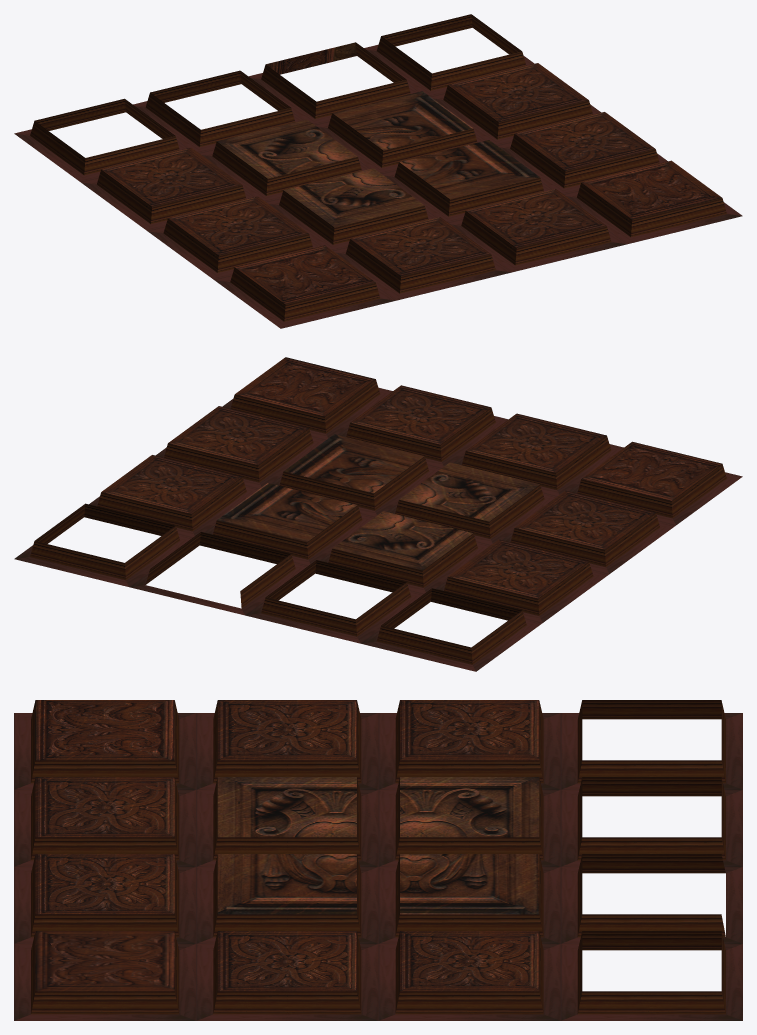
Rendered from WoodPaneledCeiling.fbx.
The picture shows the model from 3 angles, top to bottom: view 1: azimuth 30°, elevation 25°; view 2: azimuth 150°, elevation 25°; view 3: azimuth 270°, elevation 25°; orthographic projection. The views are drawn at different scales.
Parts seen in each view (by area): view 1: Ceiling; view 2: Ceiling; view 3: Ceiling.
Part boxes in pixels (x1=…): Ceiling: x1=14, y1=14, x2=742, y2=328; Ceiling: x1=14, y1=357, x2=742, y2=671; Ceiling: x1=14, y1=700, x2=742, y2=1020.
Bounding box in the file's own units: 483 × 15.5 × 483.
